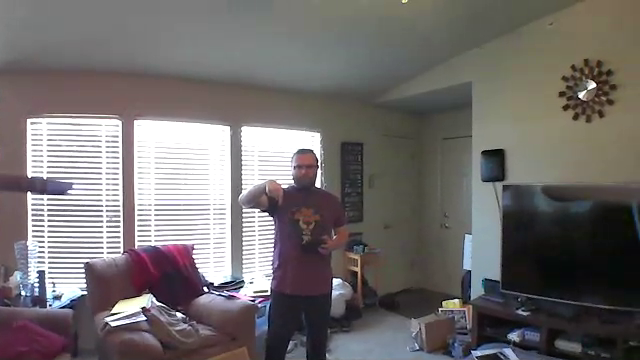down: (263, 175, 289, 210)
